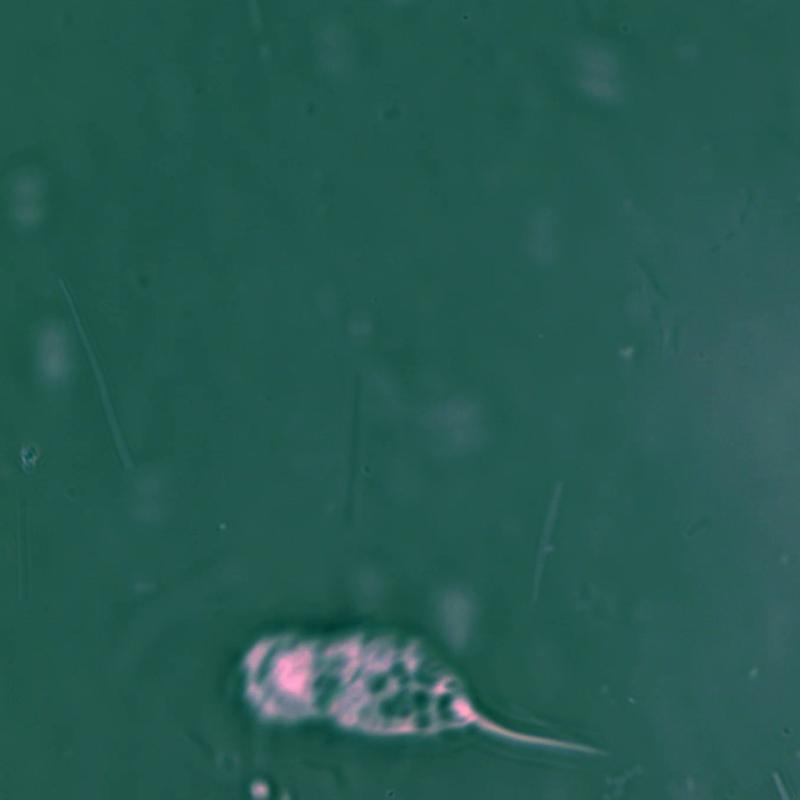depth:40: (194, 605, 641, 785)
